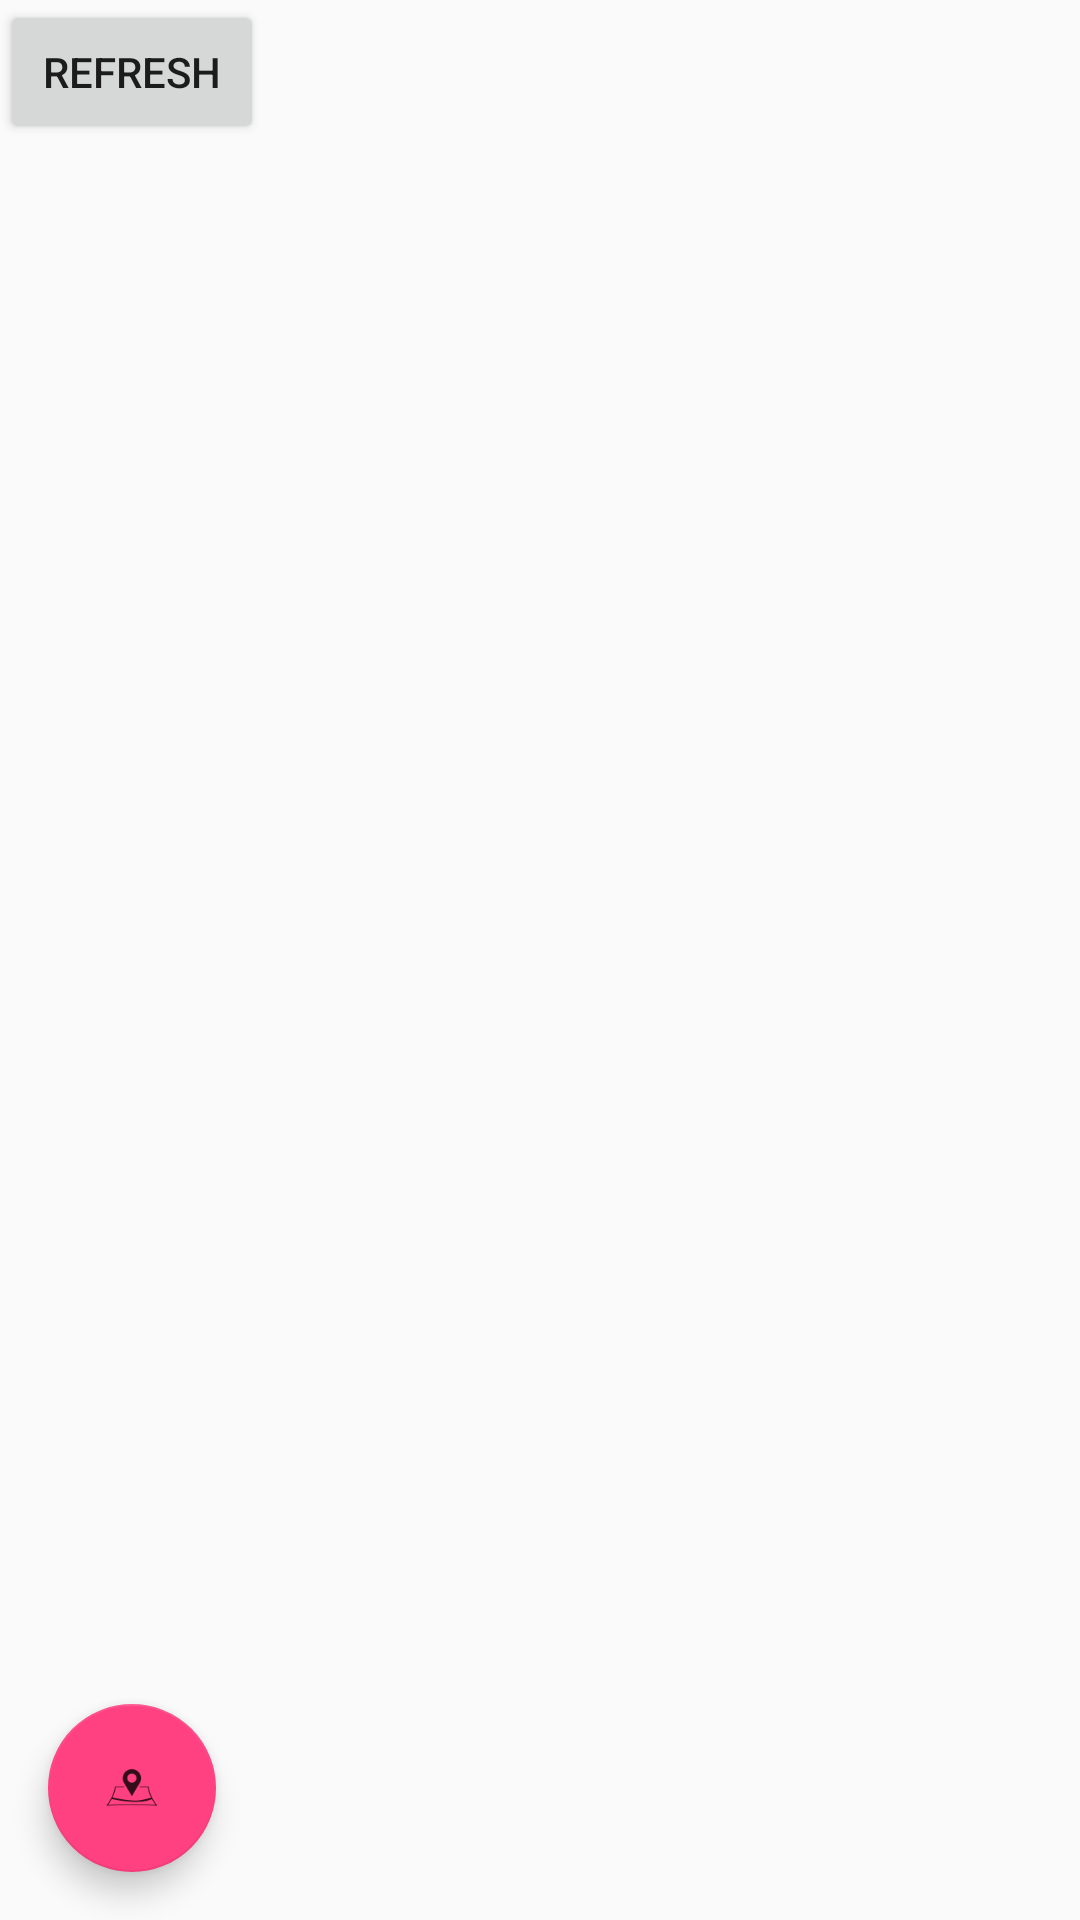

Screen size 1080px x 1920px. Icon name, then its box in pixels as (x1, y1, x2, y2):
fab map: (48, 1704, 216, 1872)
